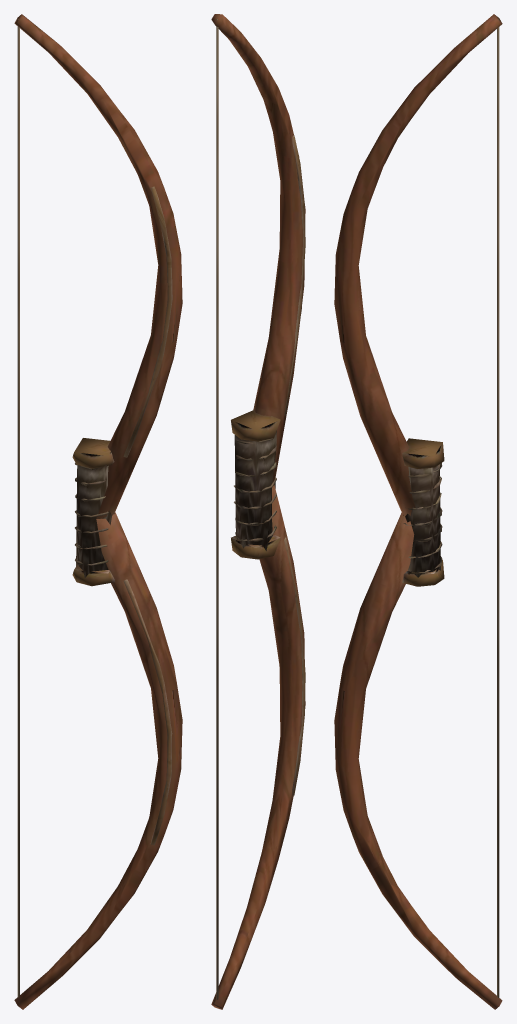
The model's file is eq_bow_2_lod1.glb.
3 views of the same model, side by side, from view 1: azimuth 90°, elevation 25°; view 2: azimuth 150°, elevation 25°; view 3: azimuth 270°, elevation 25° (orthographic).
Visible parts, largest first — view 1: eq_bow_2_lod1; view 2: eq_bow_2_lod1; view 3: eq_bow_2_lod1.
Boxes of the visible parts, bbox=[...] form: eq_bow_2_lod1: bbox=[14, 14, 182, 1009]; eq_bow_2_lod1: bbox=[211, 14, 305, 1009]; eq_bow_2_lod1: bbox=[334, 14, 502, 1009].
Size of the model in its own units: 0.0662 by 1.57 by 0.2413.
Materials: 1 (1 with a texture image).
